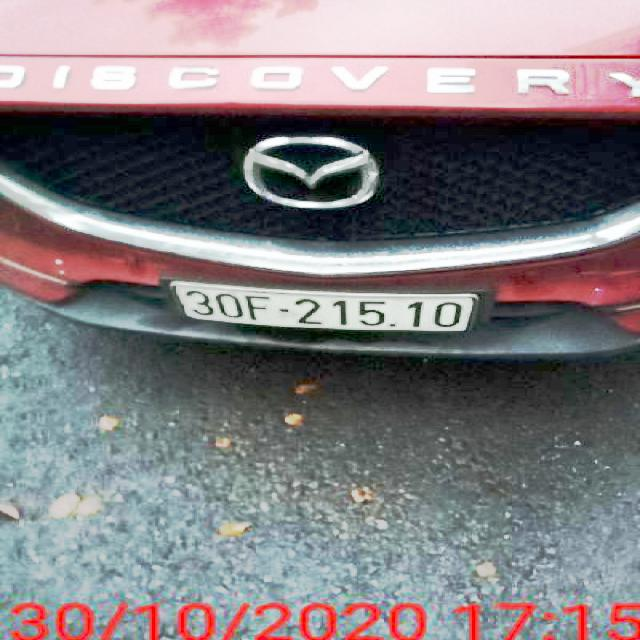license_plate: (180, 283, 476, 331)
